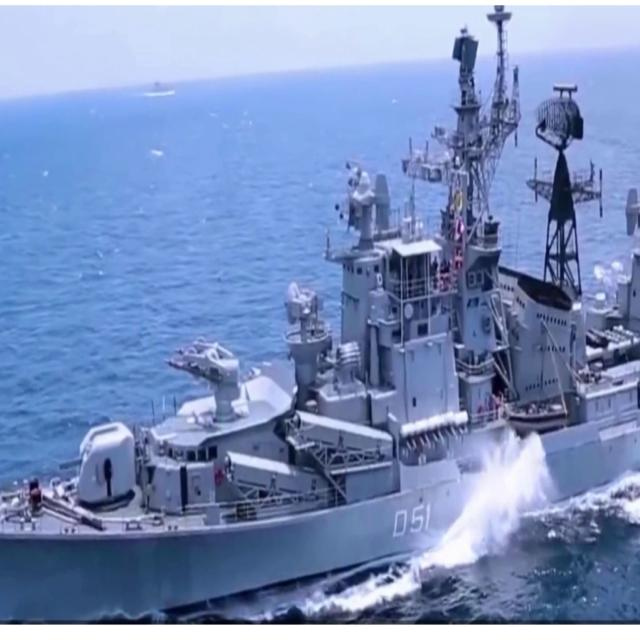OCR: (383, 499, 430, 549)
